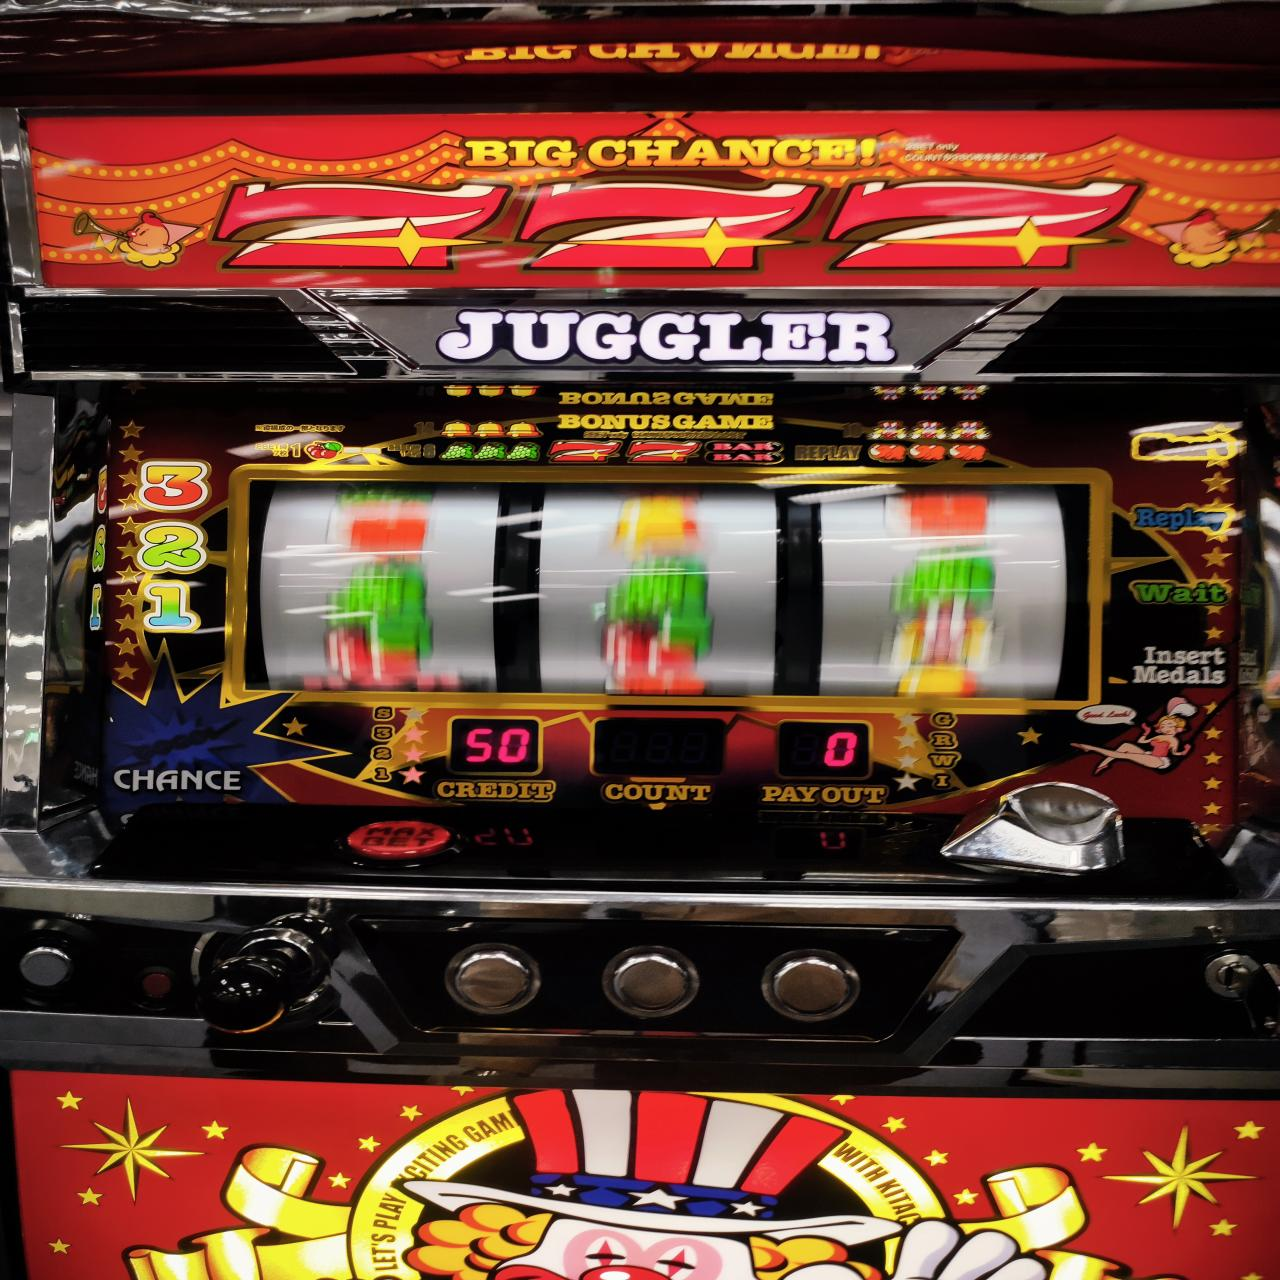rhino: (225, 472, 1102, 716)
